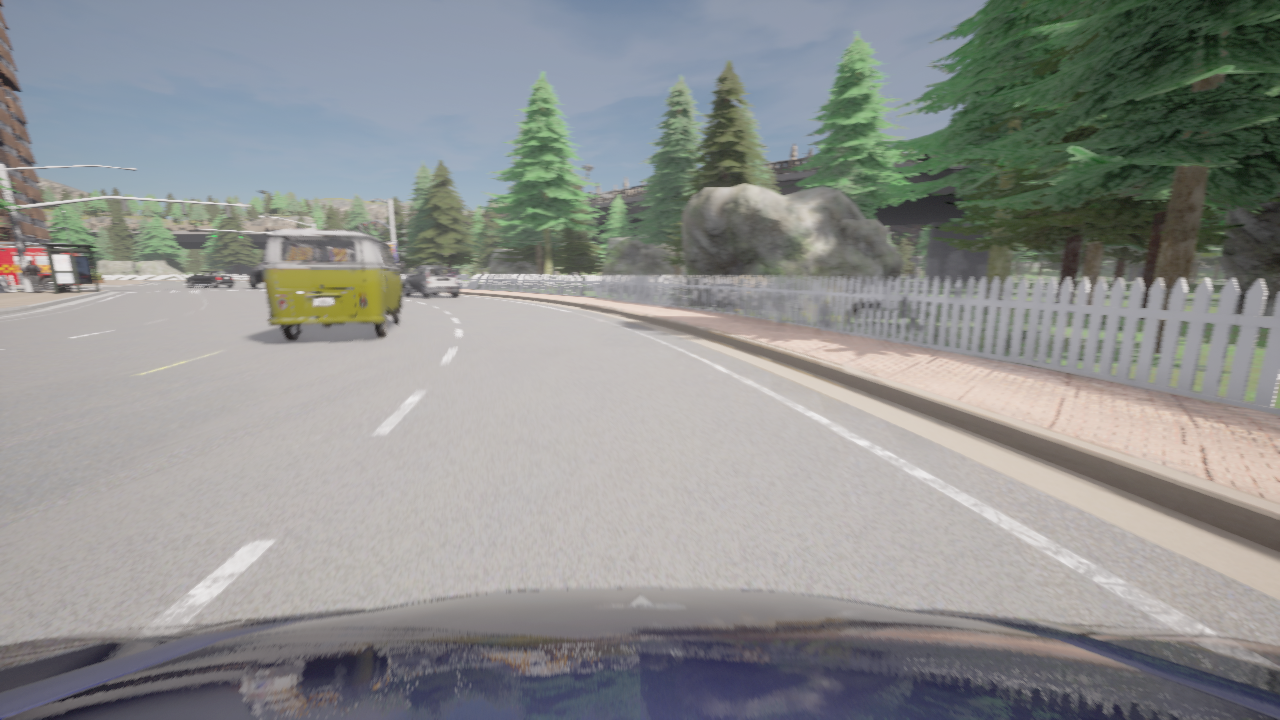cyclist: (0, 588, 1279, 719), (262, 229, 403, 340), (0, 242, 82, 289), (402, 266, 459, 297), (186, 271, 234, 287), (249, 263, 263, 288), (384, 242, 397, 264)
pedestrian: (24, 260, 43, 292), (68, 285, 72, 291)
